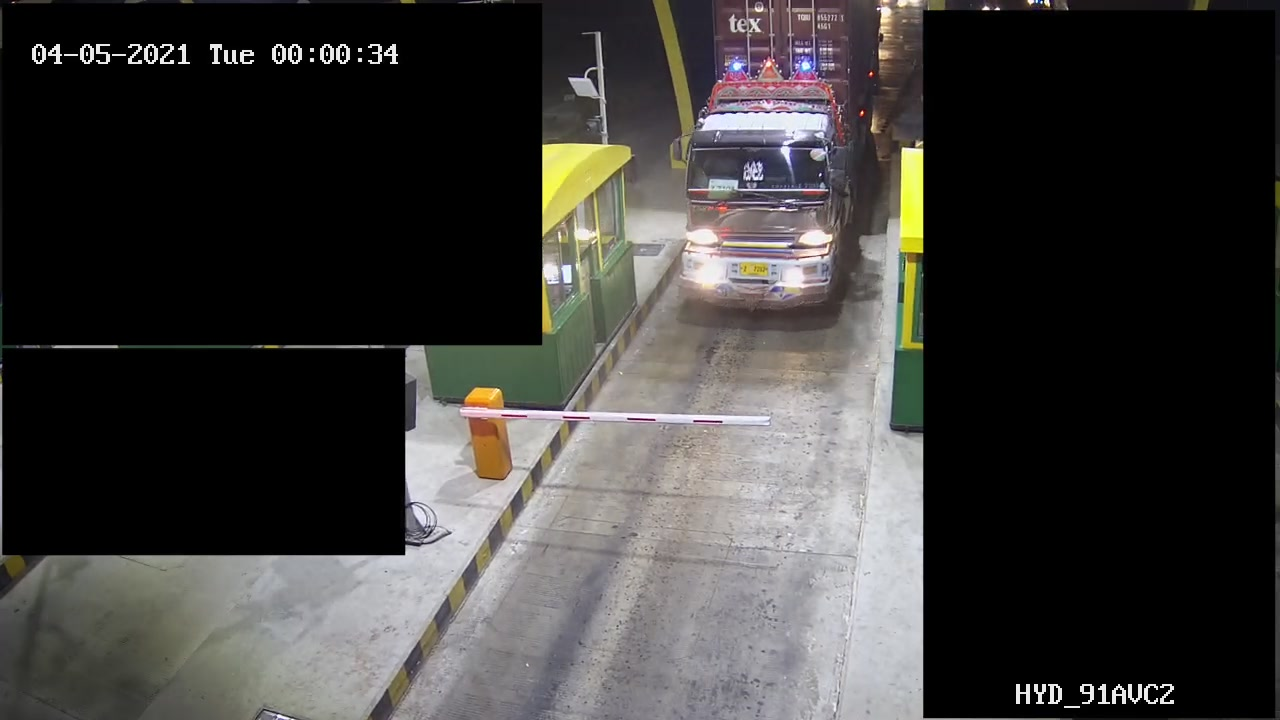F6: (670, 1, 881, 327)
